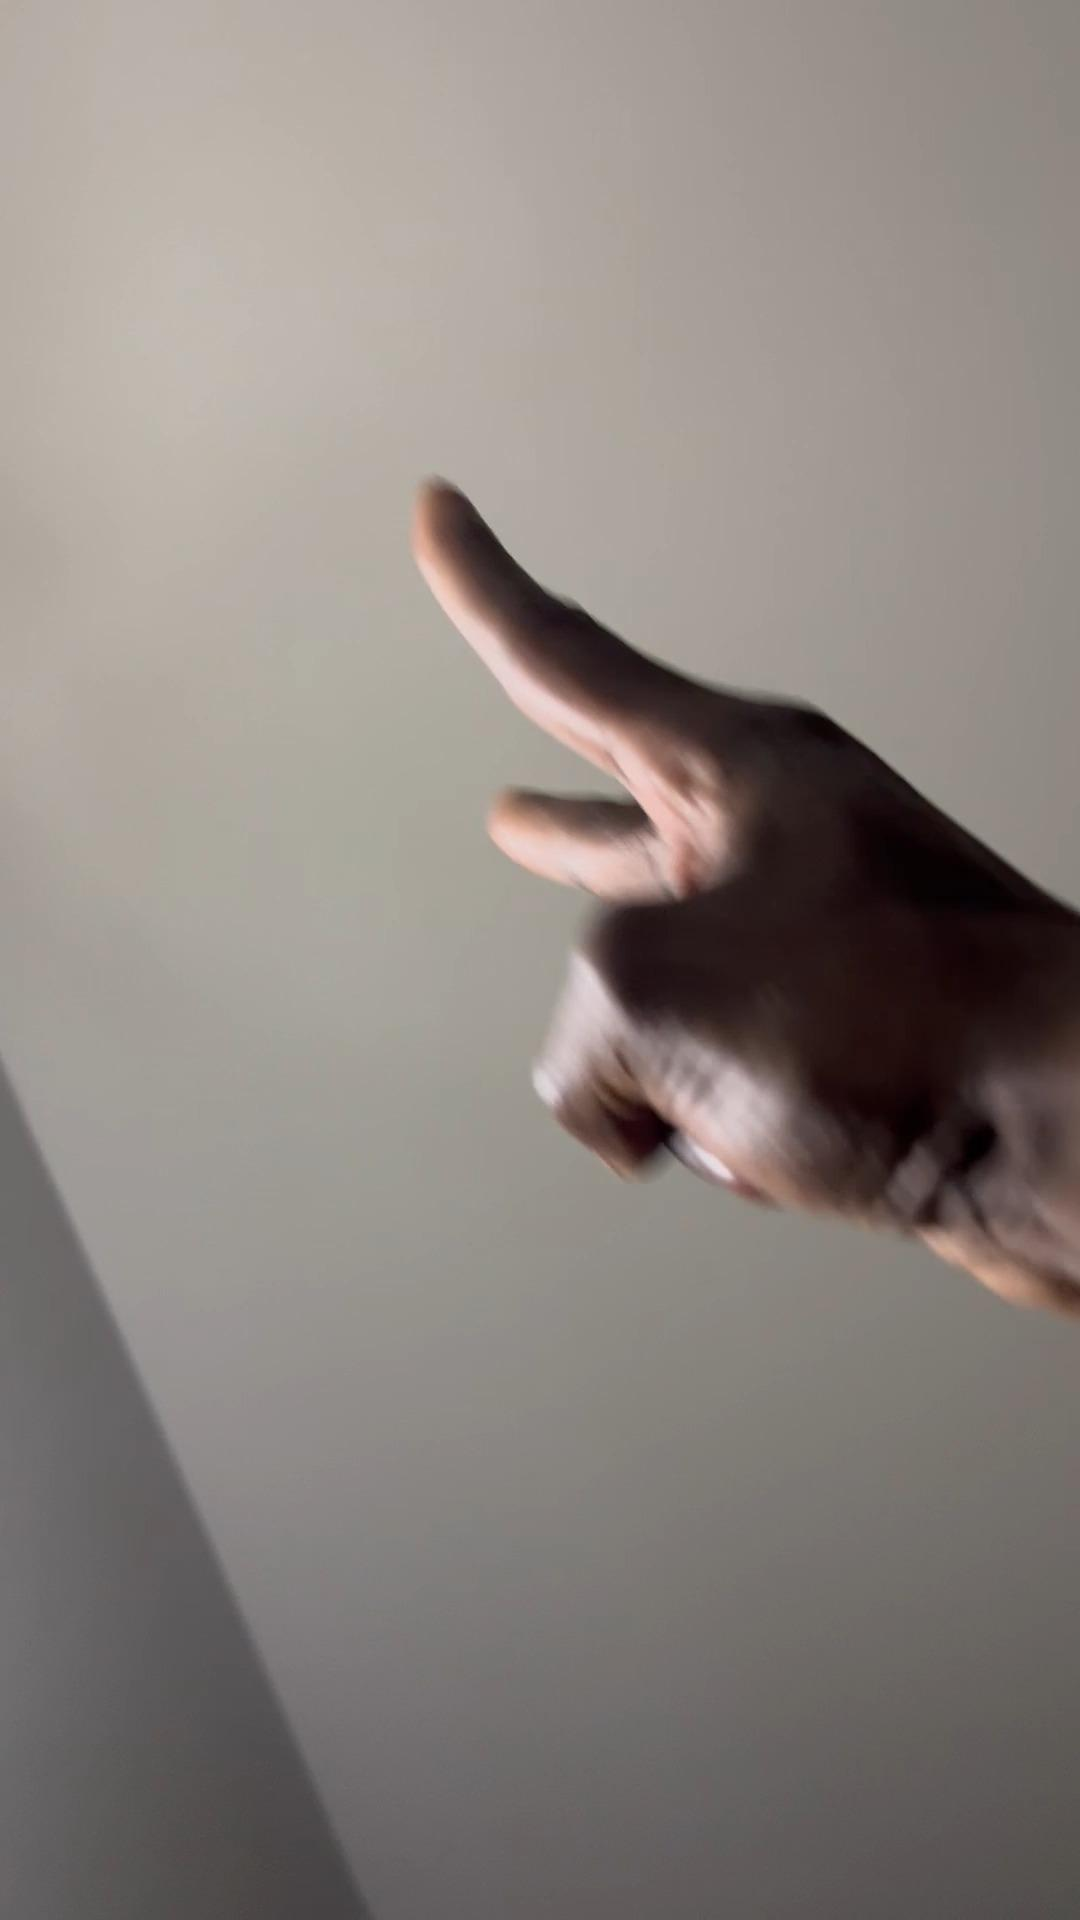Scissors: (413, 480, 1080, 1300)
